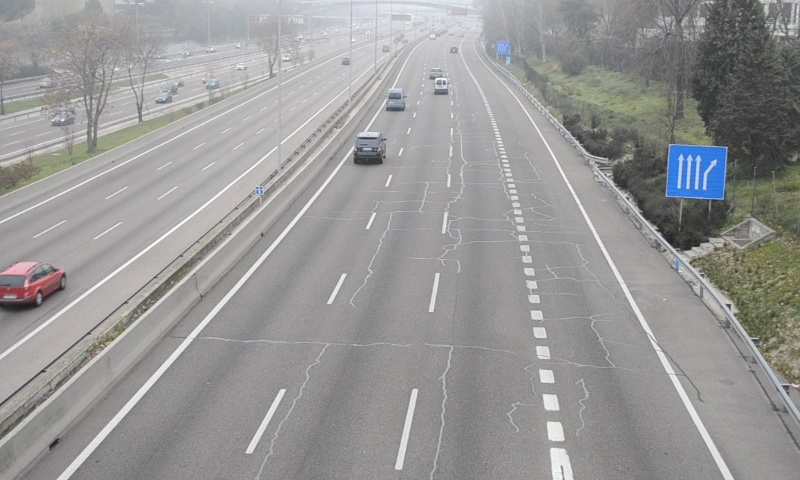car: (352, 132, 387, 162)
van: (385, 88, 404, 112)
